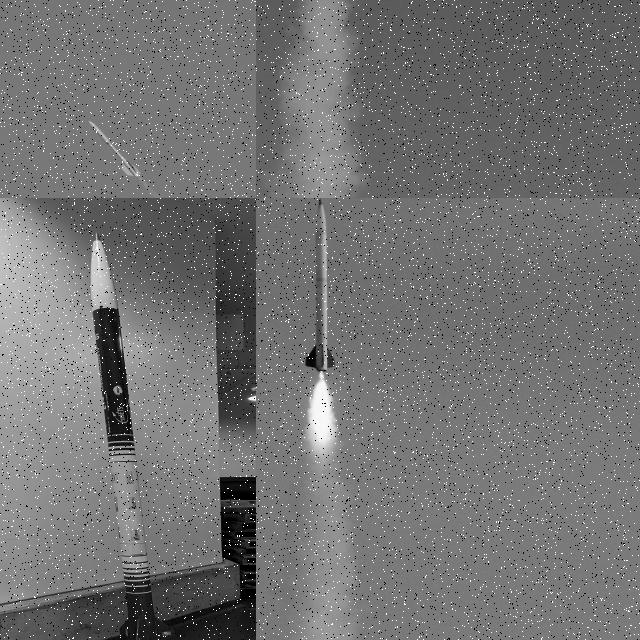Rocket: (90, 232, 175, 640), (303, 198, 337, 373), (88, 120, 142, 178)
